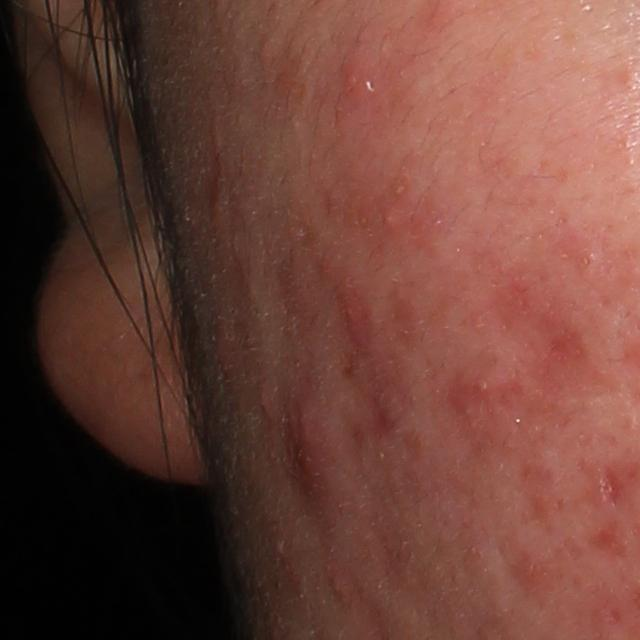atrophic_scar: (541, 315, 601, 386), (588, 460, 630, 514)
nodule: (286, 403, 348, 532)
papule: (449, 356, 537, 424), (317, 561, 365, 613), (333, 280, 372, 337), (510, 546, 555, 594), (330, 45, 368, 98)
